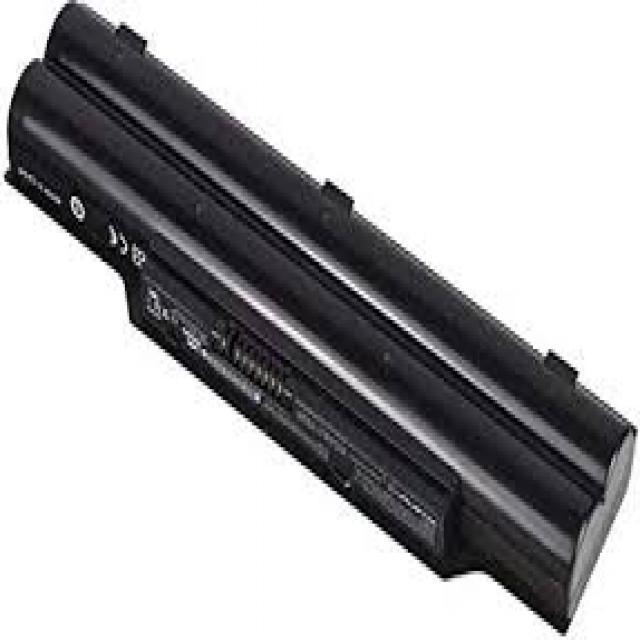battery: (8, 0, 639, 635)
